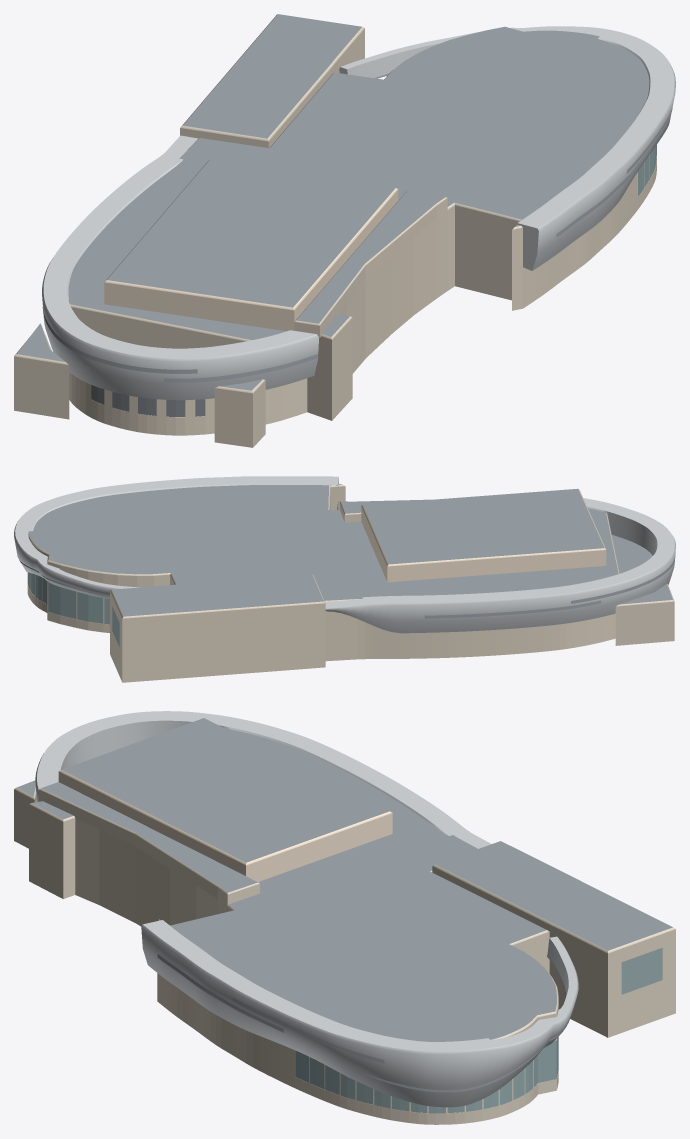
Rendered from detail.glb.
3 renders of one model, top to bottom at view 1: azimuth 30°, elevation 25°; view 2: azimuth 150°, elevation 25°; view 3: azimuth 270°, elevation 25°, orthographic. The views are drawn at different scales.
Visible parts, largest first — view 1: nascar-hall-of-fame; view 2: nascar-hall-of-fame; view 3: nascar-hall-of-fame.
Part boxes in pixels (bbox=[...]): nascar-hall-of-fame: bbox=[14, 14, 675, 447]; nascar-hall-of-fame: bbox=[14, 476, 675, 682]; nascar-hall-of-fame: bbox=[14, 711, 675, 1124].
Size of the model in its own units: 201 by 26.5 by 157.
